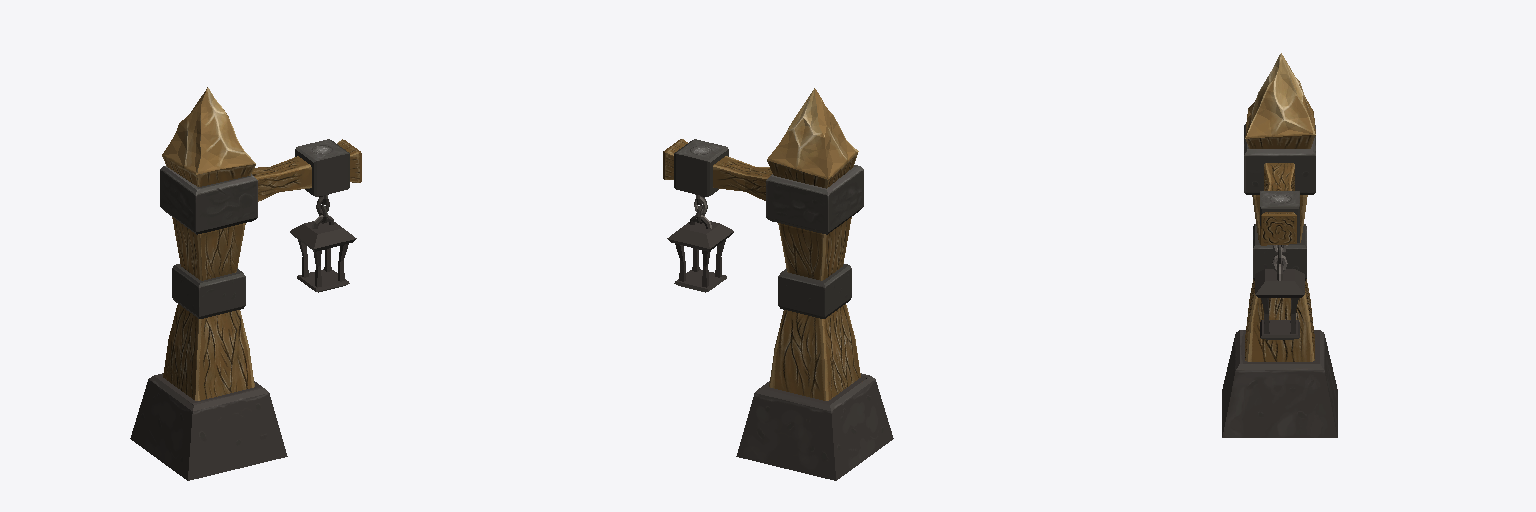
The picture shows the model from 3 angles: view 1: azimuth 30°, elevation 25°; view 2: azimuth 150°, elevation 25°; view 3: azimuth 270°, elevation 25°; orthographic projection.
Parts seen in each view (by area): view 1: Wooden_Pike; view 2: Wooden_Pike; view 3: Wooden_Pike.
Part boxes in pixels (left/top/right/bottom): Wooden_Pike: left=130, top=87, right=361, bottom=480; Wooden_Pike: left=663, top=88, right=893, bottom=480; Wooden_Pike: left=1222, top=53, right=1337, bottom=437.
Size of the model in its own units: 81.74 by 145 by 42.04.
Materials: 1 (1 with a texture image).